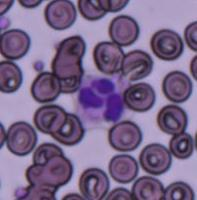N: (74, 73, 131, 125)
